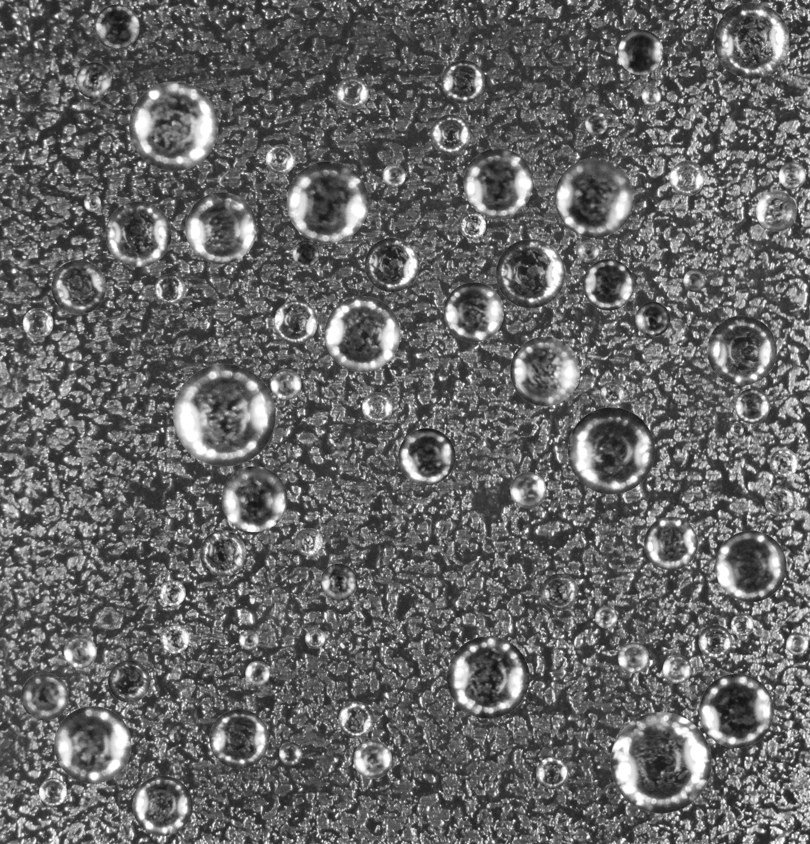Bubble: (173, 364, 275, 466), (610, 712, 711, 813), (129, 81, 218, 170), (567, 407, 654, 494), (286, 161, 368, 243), (447, 636, 529, 718), (554, 158, 634, 237), (54, 706, 131, 783), (324, 296, 400, 371), (714, 2, 789, 78), (699, 673, 773, 748), (715, 530, 786, 602), (185, 192, 256, 263), (707, 315, 776, 385), (510, 336, 579, 406), (463, 148, 532, 217), (496, 239, 565, 308), (105, 201, 171, 267), (221, 466, 287, 532), (132, 775, 192, 835), (443, 282, 503, 342), (209, 709, 268, 768), (398, 428, 455, 485), (364, 237, 419, 292), (51, 260, 105, 314), (644, 516, 697, 570), (583, 259, 634, 310), (21, 673, 68, 720), (200, 530, 246, 576), (94, 4, 139, 49), (618, 29, 663, 74), (274, 300, 317, 344), (441, 60, 484, 103), (108, 660, 150, 702), (756, 190, 797, 231), (430, 114, 470, 154), (353, 740, 392, 779), (320, 563, 357, 600), (541, 573, 578, 610), (75, 62, 112, 98), (338, 701, 374, 737), (510, 472, 546, 508), (734, 388, 770, 423), (669, 160, 704, 195), (635, 301, 670, 336), (698, 624, 732, 658), (63, 635, 96, 668), (336, 76, 368, 109), (536, 757, 568, 789), (618, 642, 649, 673), (764, 485, 795, 516), (154, 273, 185, 304), (22, 308, 53, 338), (270, 369, 301, 399), (265, 144, 295, 174), (362, 392, 392, 422), (160, 624, 189, 653), (662, 655, 691, 683), (770, 448, 798, 477), (294, 528, 322, 555), (39, 778, 66, 805), (292, 240, 319, 267), (159, 579, 185, 606), (459, 212, 486, 238), (779, 162, 805, 188), (600, 381, 624, 406), (245, 661, 269, 685), (382, 164, 405, 187), (731, 613, 754, 636), (279, 742, 302, 765), (585, 112, 608, 134), (683, 269, 705, 291), (786, 633, 808, 655), (577, 240, 599, 262), (595, 606, 617, 628), (305, 628, 325, 648), (238, 630, 258, 649), (641, 86, 661, 105), (83, 194, 100, 211), (730, 423, 743, 436)
